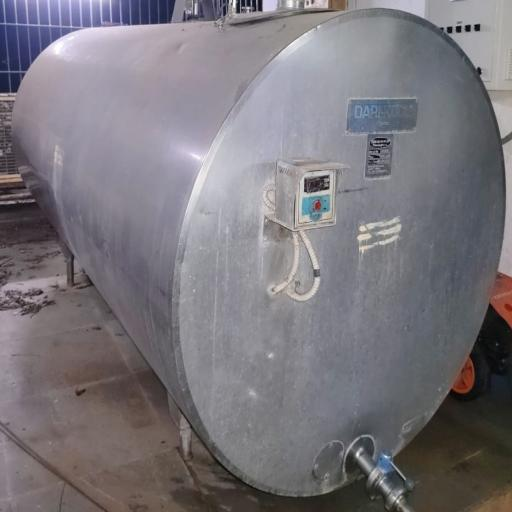silo: (11, 7, 505, 498)
